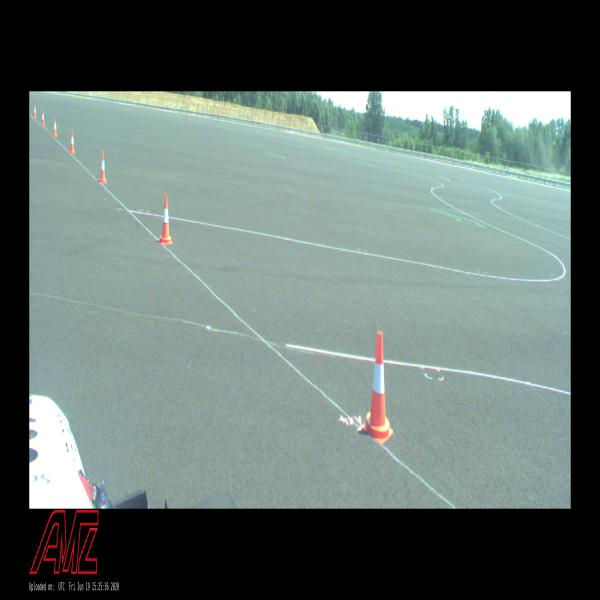orange_cone: (362, 331, 393, 444), (160, 194, 173, 244), (99, 152, 107, 184), (69, 130, 75, 154), (53, 119, 57, 136), (41, 110, 45, 125), (34, 105, 36, 118)
